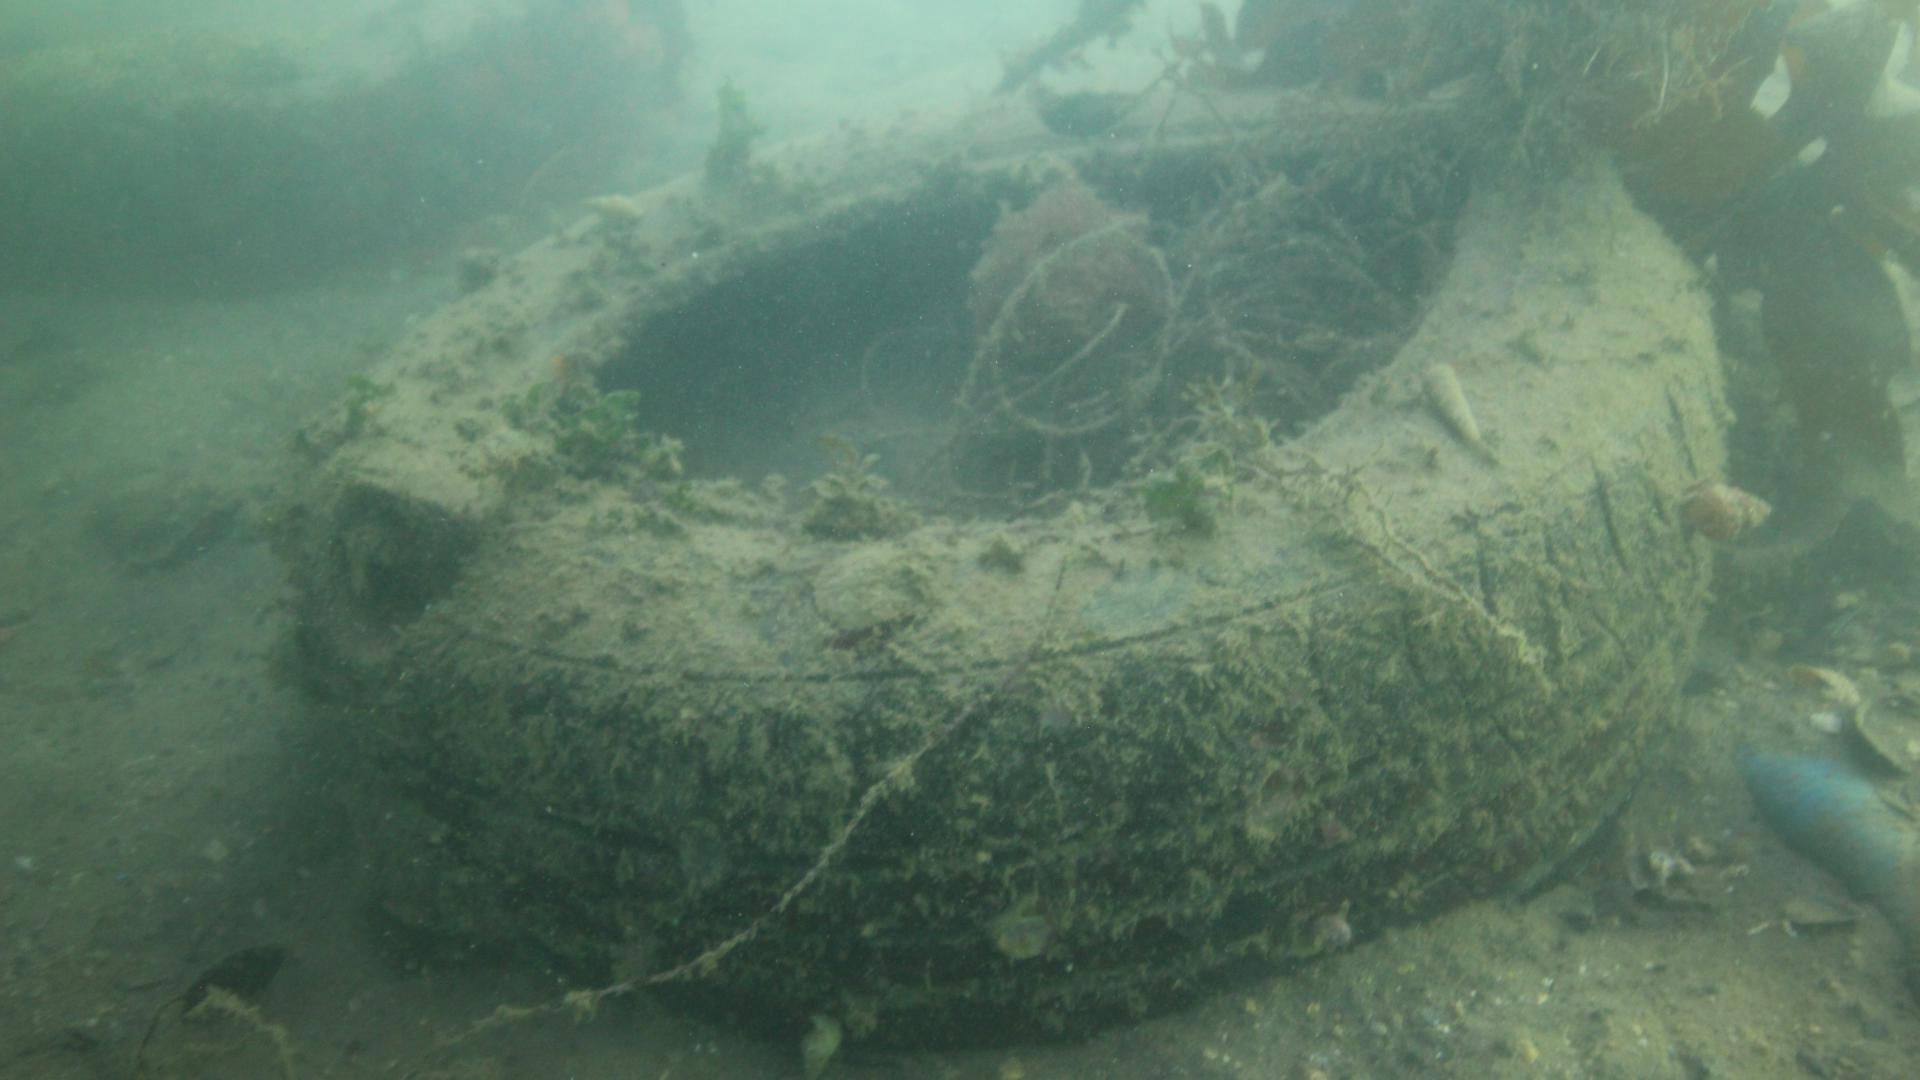tire: (306, 87, 1730, 1050)
